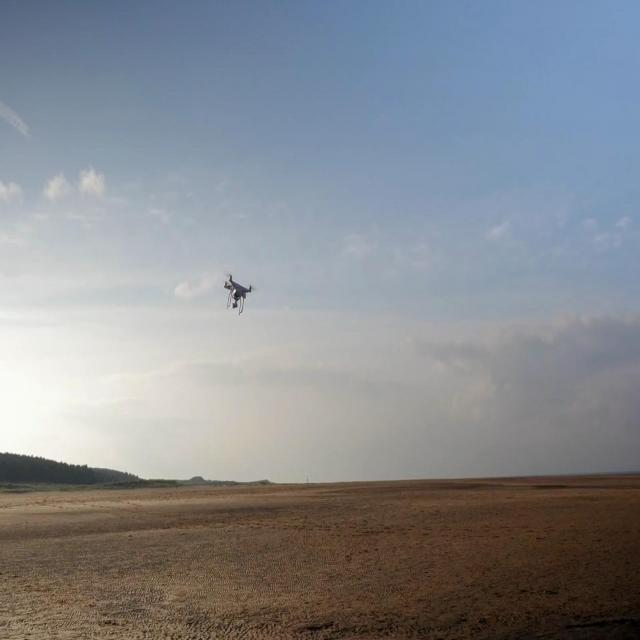drones: (223, 266, 252, 315)
